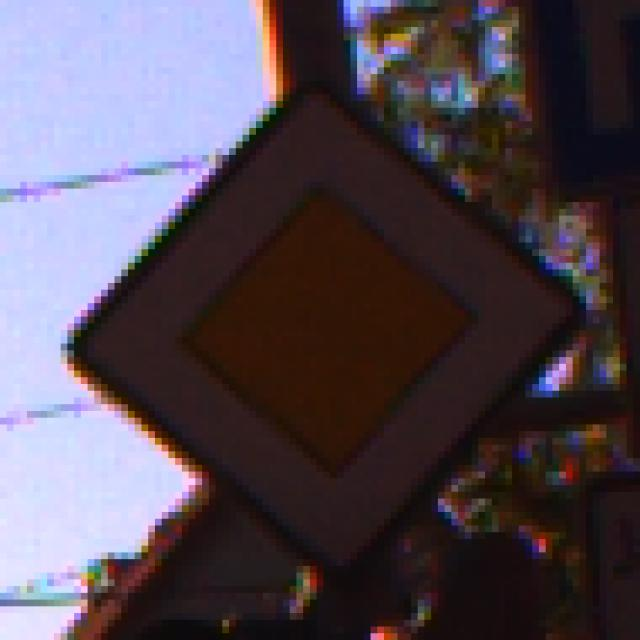Main Road: (55, 55, 587, 580)
